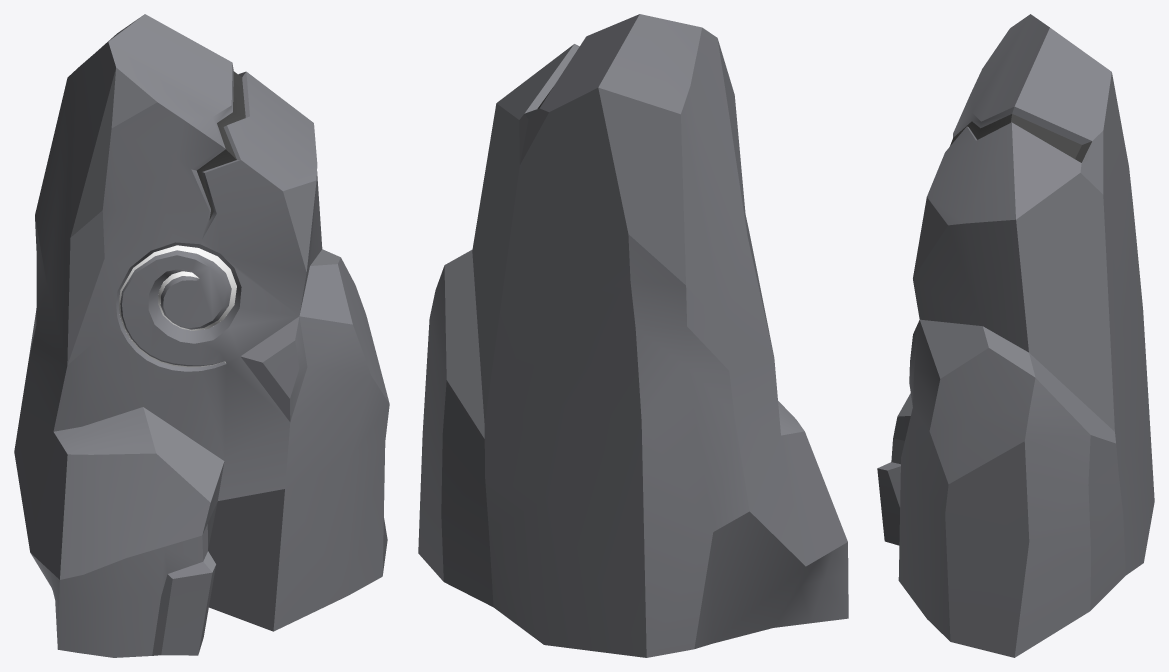
Rendered from runeStone.glb.
3 views of the same model, side by side, from view 1: azimuth 30°, elevation 25°; view 2: azimuth 150°, elevation 25°; view 3: azimuth 270°, elevation 25° (orthographic). The views are drawn at different scales.
Parts seen in each view (by area): view 1: Magic Rock; view 2: Magic Rock; view 3: Magic Rock.
Part boxes in pixels (x1,y1,x2,y2): Magic Rock: [14, 14, 389, 657]; Magic Rock: [418, 14, 848, 657]; Magic Rock: [877, 14, 1154, 657].
Bounding box in the file's own units: 1.24 × 1.87 × 0.881.
2 materials, 2 textured.
